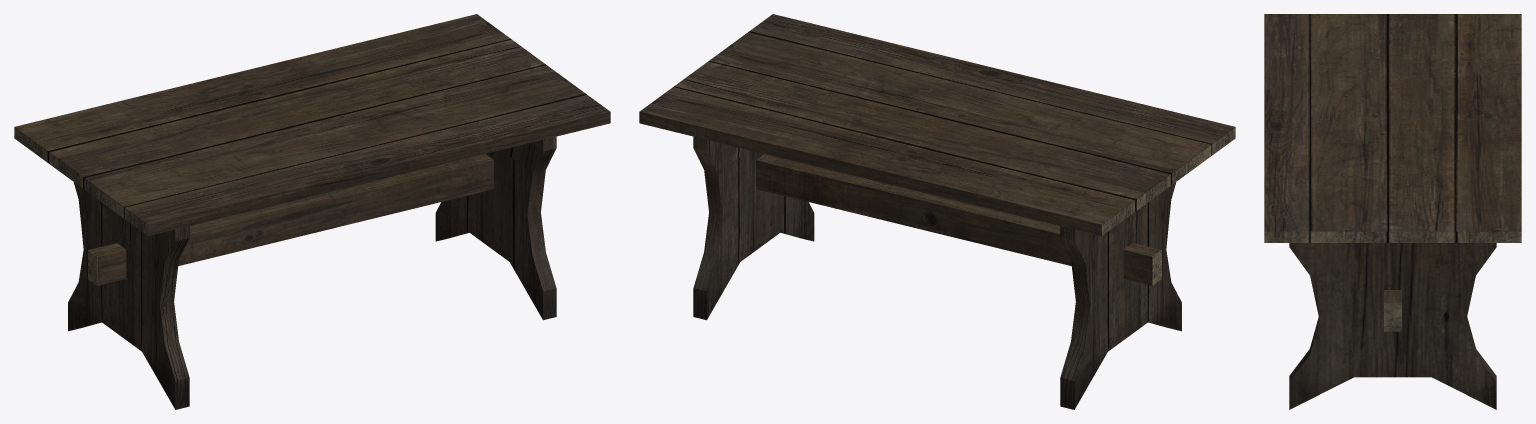
The model's file is Table1_LOD1.fbx.
3 views of the same model, side by side, from view 1: azimuth 30°, elevation 25°; view 2: azimuth 150°, elevation 25°; view 3: azimuth 270°, elevation 25° (orthographic). The views are drawn at different scales.
Visible parts, largest first — view 1: default4; view 2: default4; view 3: default4.
Boxes of the visible parts, x1,y1,x2,y2 form: default4: (14, 14, 610, 409); default4: (639, 14, 1235, 409); default4: (1264, 14, 1521, 409).
Bounding box in the file's own units: 10 × 4.23 × 5.
